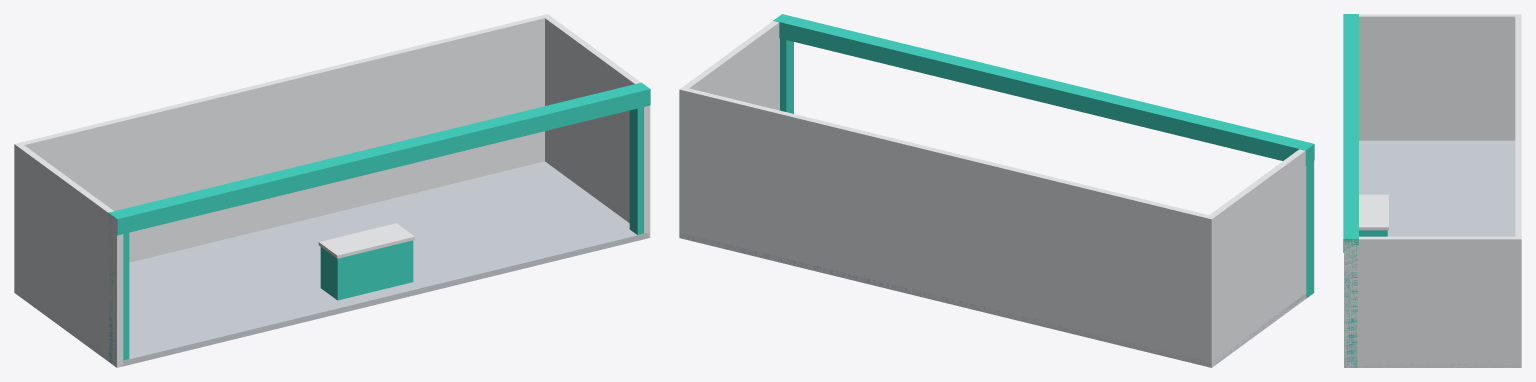
3 renders of one model, left to right at view 1: azimuth 30°, elevation 25°; view 2: azimuth 150°, elevation 25°; view 3: azimuth 270°, elevation 25°, orthographic. The views are drawn at different scales.
Visible parts, largest first — view 1: Exhibition Booth Concept; view 2: Exhibition Booth Concept; view 3: Exhibition Booth Concept.
Part boxes in pixels (x1=…): Exhibition Booth Concept: x1=14, y1=14, x2=650, y2=367; Exhibition Booth Concept: x1=679, y1=14, x2=1314, y2=367; Exhibition Booth Concept: x1=1343, y1=14, x2=1521, y2=367.
Size of the model in its own units: 12 by 3.2 by 4.02.
